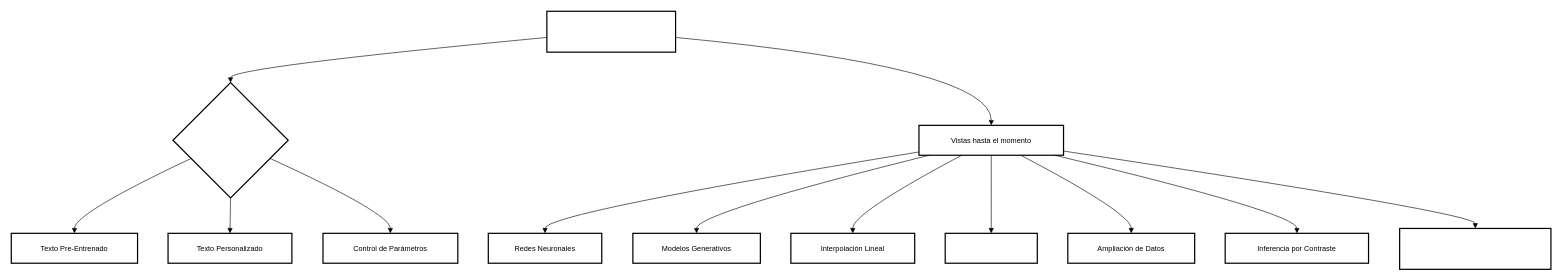
This 1562x280 diagram has some shape labels left out. The centre of each missing label's shape, as x and y in pixels:
Inteligencia Artificial Generativa: pixel 611 31
Mapeo Estilo: pixel 991 248
Prompt Engineering: pixel 230 140
Técnica de Generación de Imágenes: pixel 1475 249
